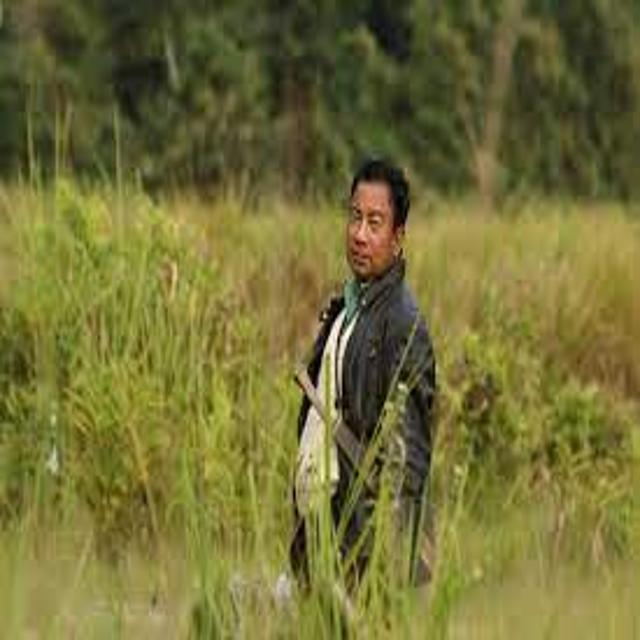poacher: (223, 138, 511, 626)
